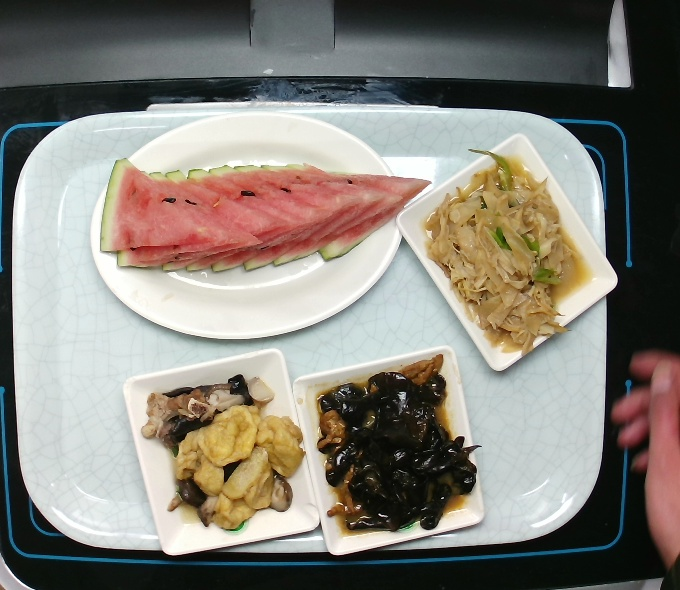wcq-LuSun: (421, 155, 596, 355)
wcq-MuErChaoRou: (308, 365, 478, 539)
wcq-XiGua: (92, 157, 439, 291)
wcq-YouPaoPaiGu: (135, 366, 305, 540)
